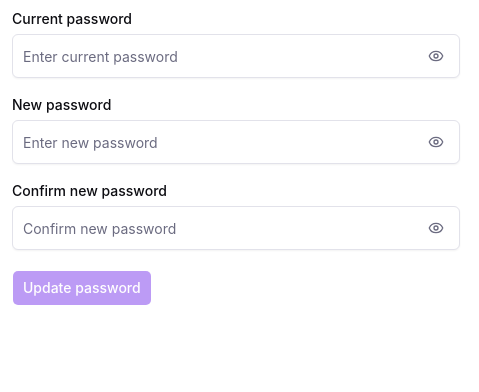
ChangePasswordForm › maps RATE_LIMITED to a warning banner
Step 1. Type "OldPass123!" into the password field labelled "Current password" → (236,56), box x1=12 y1=34 x2=460 y2=78
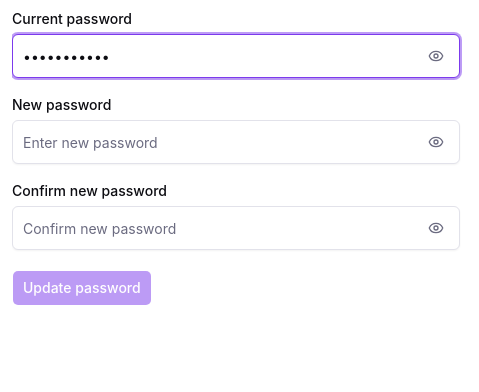
Step 2. Type "NewPass456!" into the password field labelled "New password" → (236,142), box x1=12 y1=120 x2=460 y2=164
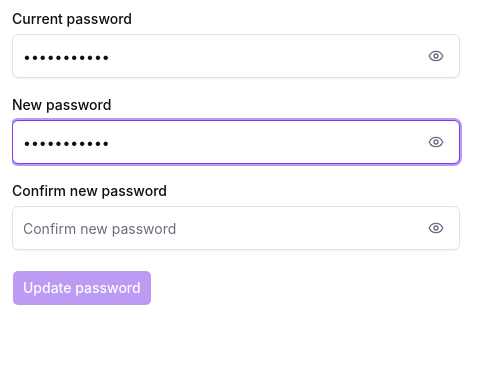
Step 3. Type "NewPass456!" into the password field labelled "Confirm new password" → (236,228), box x1=12 y1=206 x2=460 y2=250
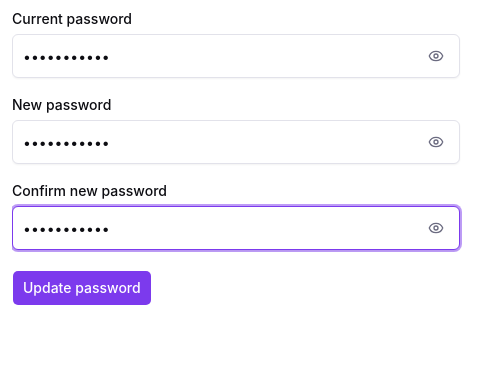
Step 4. Click the button "Update password" → (82,288), box x1=12 y1=270 x2=152 y2=306
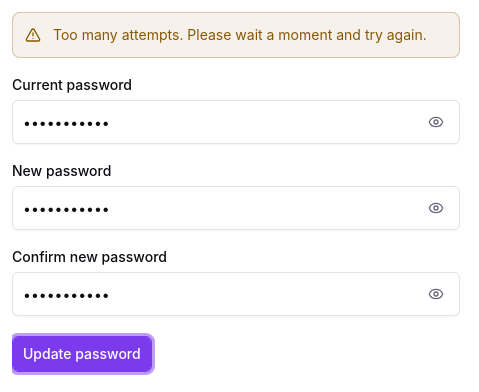
Expected: the text "Too many attempts. Please wait a moment and try again." is shown, x1=12 y1=12 x2=460 y2=58
